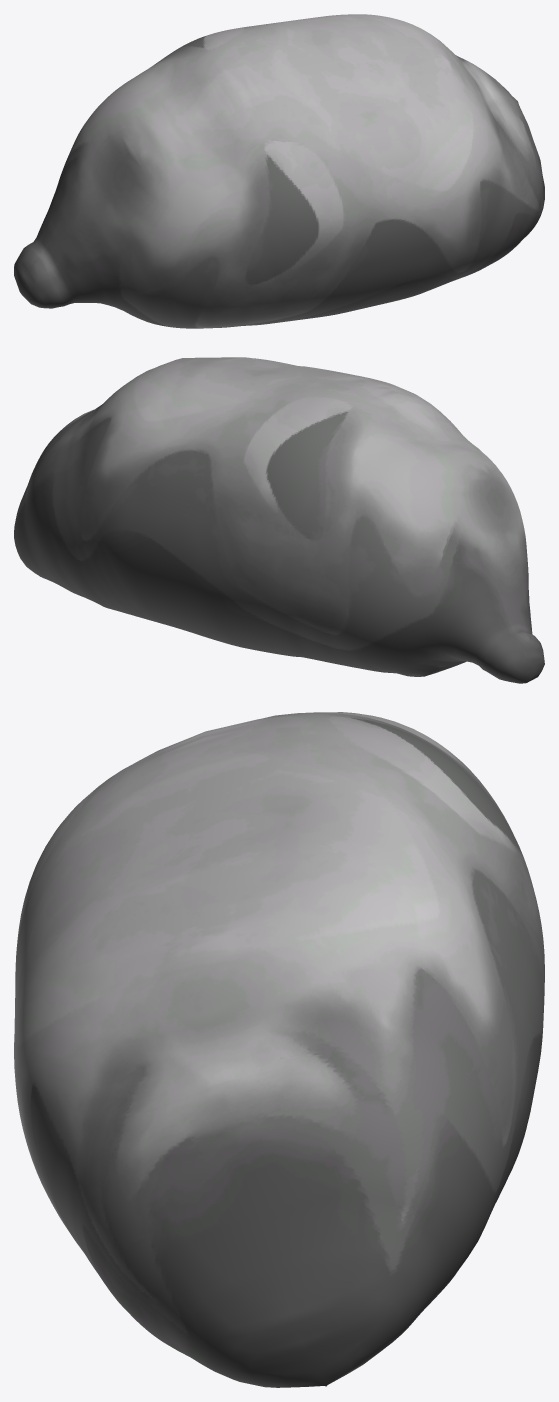
Rendered from stone2.fbx.
The picture shows the model from 3 angles, top to bottom: view 1: azimuth 30°, elevation 25°; view 2: azimuth 150°, elevation 25°; view 3: azimuth 270°, elevation 25°; orthographic projection. The views are drawn at different scales.
Parts seen in each view (by area): view 1: root; view 2: root; view 3: root.
Boxes of the visible parts, x1=… form: root: x1=14, y1=14, x2=544, y2=328; root: x1=14, y1=357, x2=544, y2=683; root: x1=14, y1=712, x2=544, y2=1387.
Bounding box in the file's own units: 1.29 × 0.65 × 0.6747.
1 material, 1 textured.
